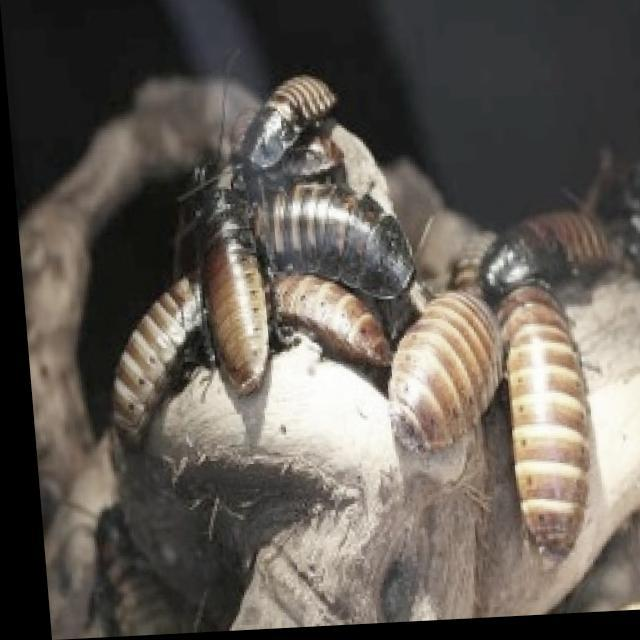cockroach: (487, 258, 610, 582), (360, 278, 528, 482), (88, 257, 238, 461), (182, 167, 268, 416), (238, 252, 397, 386), (237, 58, 364, 181), (496, 194, 636, 284)
